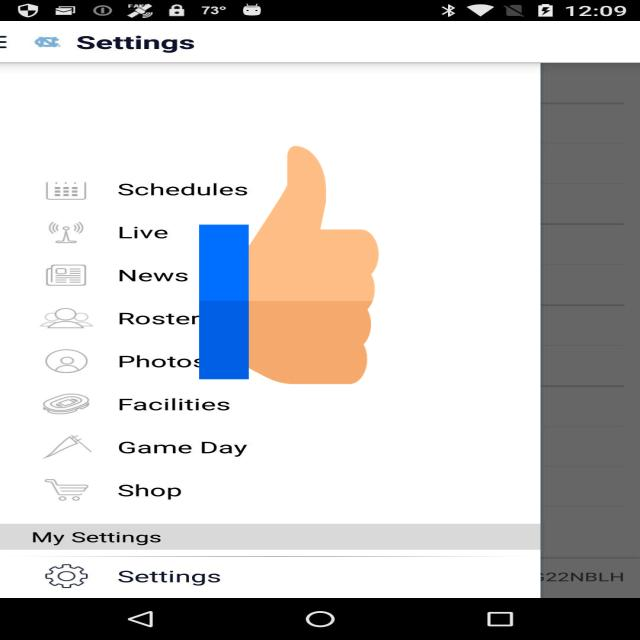privacy zuckering: (199, 140, 379, 390)
